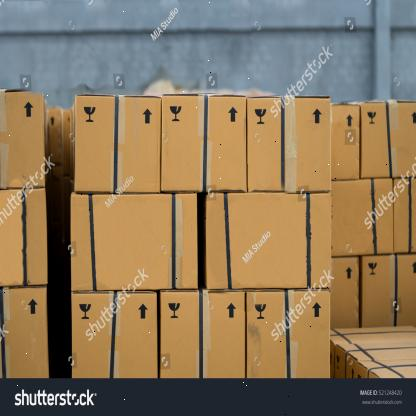box: (70, 193, 199, 293), (207, 192, 329, 290), (74, 94, 161, 194), (160, 94, 247, 193), (247, 95, 332, 192), (245, 288, 331, 380), (72, 292, 158, 380), (160, 290, 245, 378), (0, 187, 49, 287), (332, 178, 394, 254), (0, 285, 49, 379), (0, 90, 45, 189), (359, 99, 416, 177)
